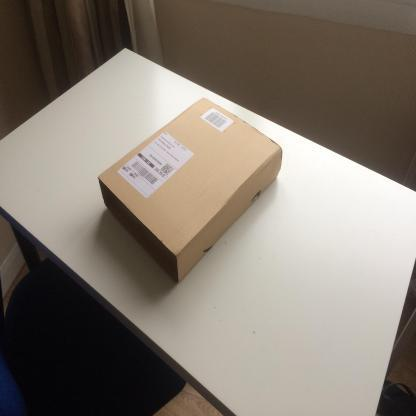karton: (98, 98, 284, 286)
